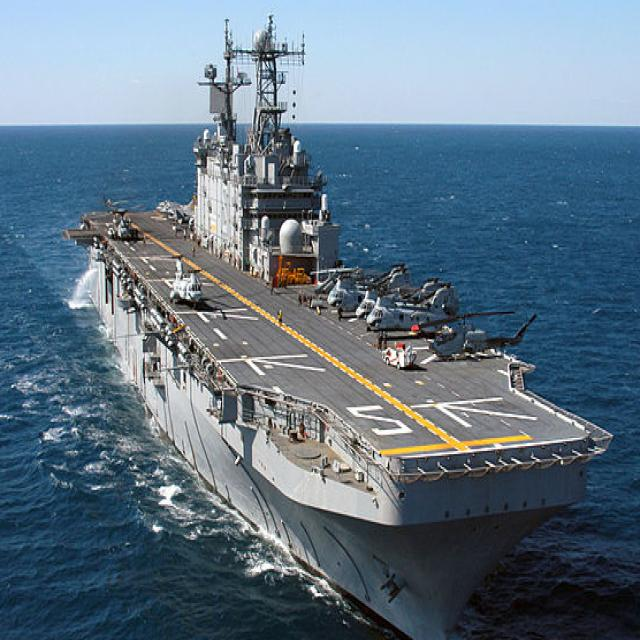navalvessels: (56, 6, 624, 640)
